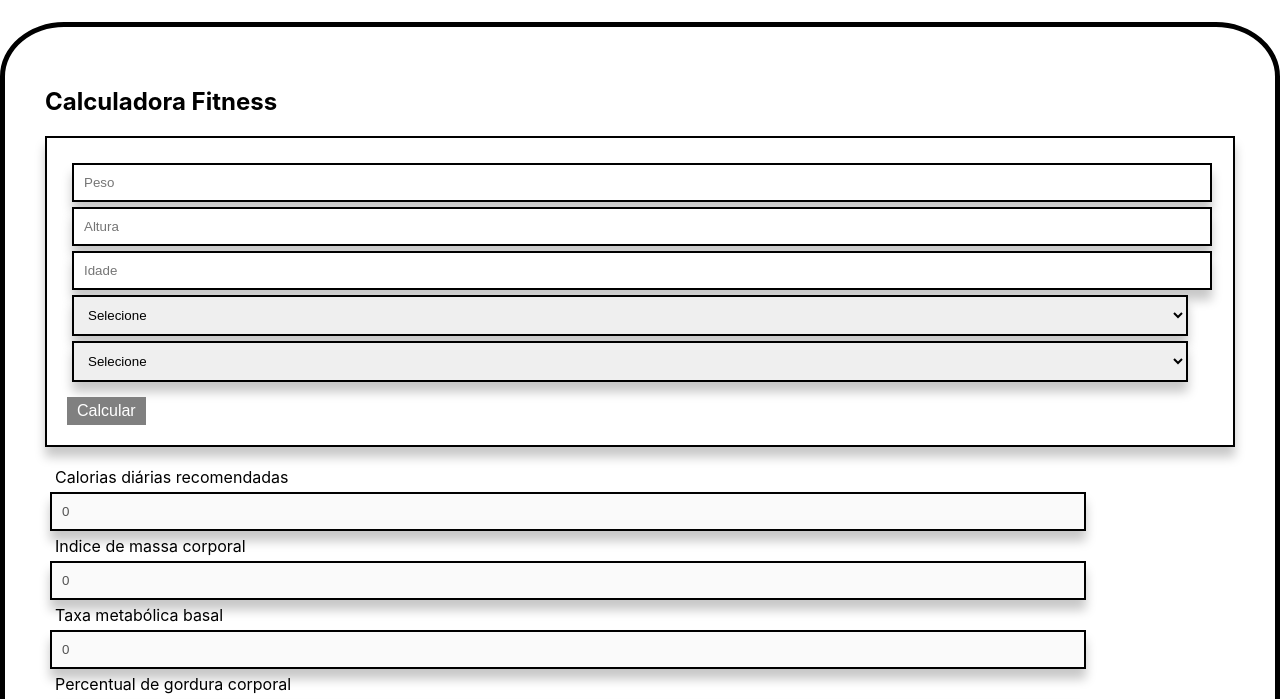
Test: the form's behavior › submit button must be enabled if fields are filled, and form must return correct values upon submission
The image size is (1280, 699).
// add random values to input
Type "175" into the field with placeholder "Altura". click: coordinates (642, 226)
box: [72,207,1212,246]
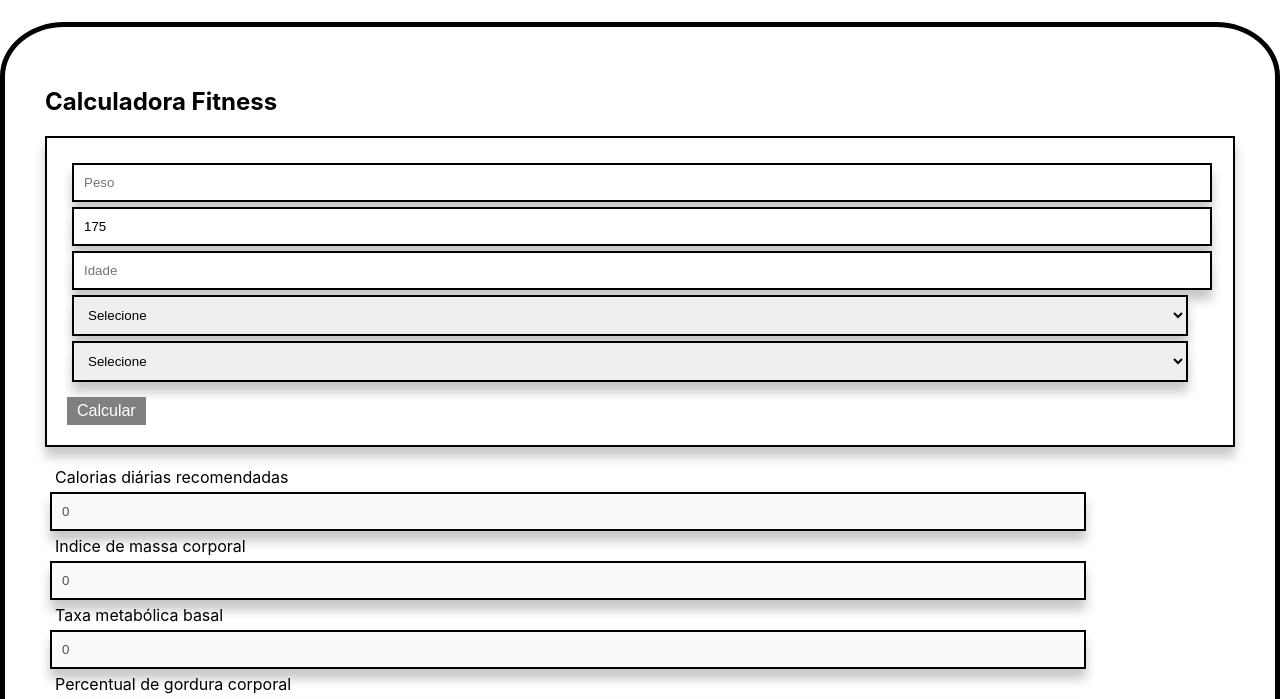
Type "115" into the field with placeholder "Peso". click: coordinates (642, 182)
box: [72,163,1212,202]
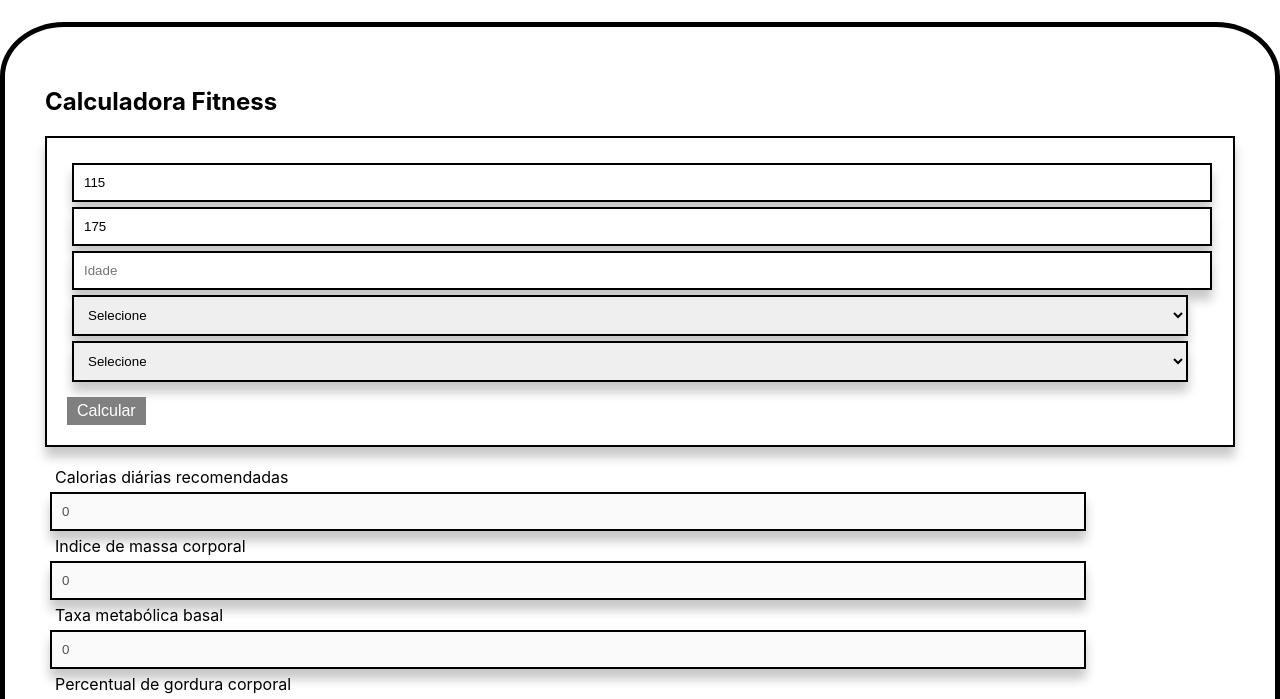
Type "25" into the field with placeholder "Idade". click: coordinates (642, 270)
box: [72,251,1212,290]
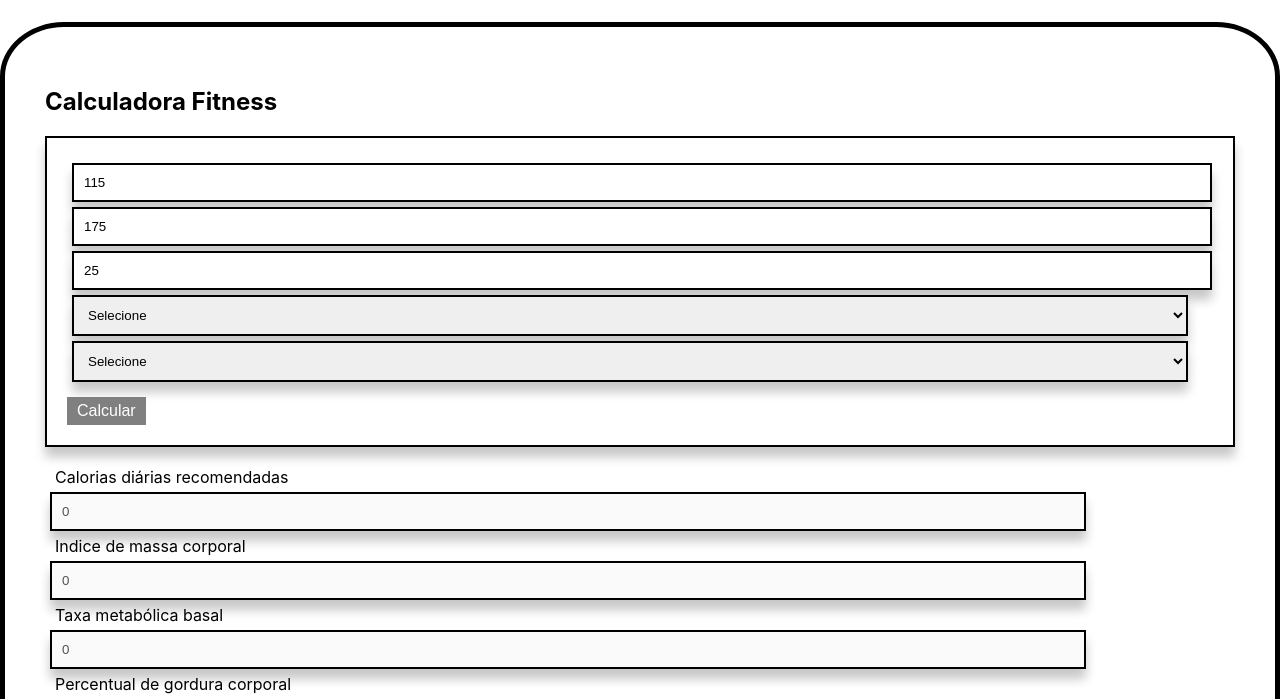
Select "Feminino" in the 1st dropdown with placeholder "genderInput". click: coordinates (630, 315)
box: [72,295,1188,336]
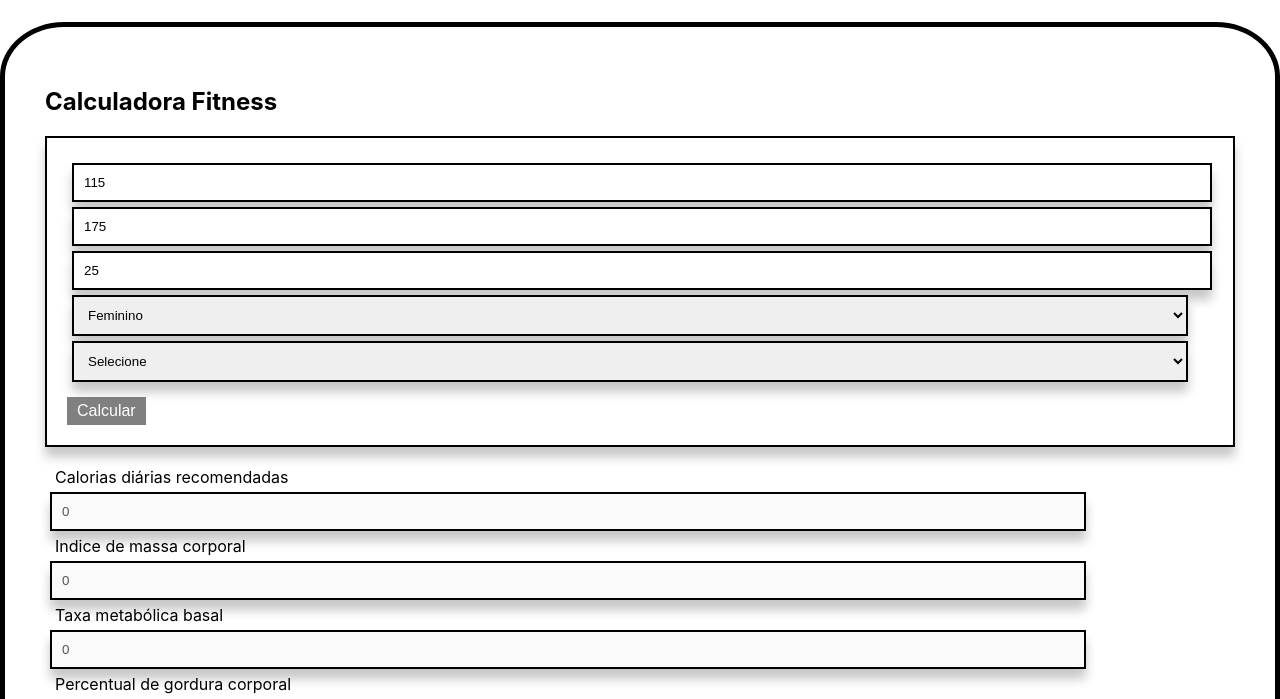
Select "Baixo" in the 2nd dropdown with placeholder "activityLevelInput". click: coordinates (630, 361)
box: [72,341,1188,382]
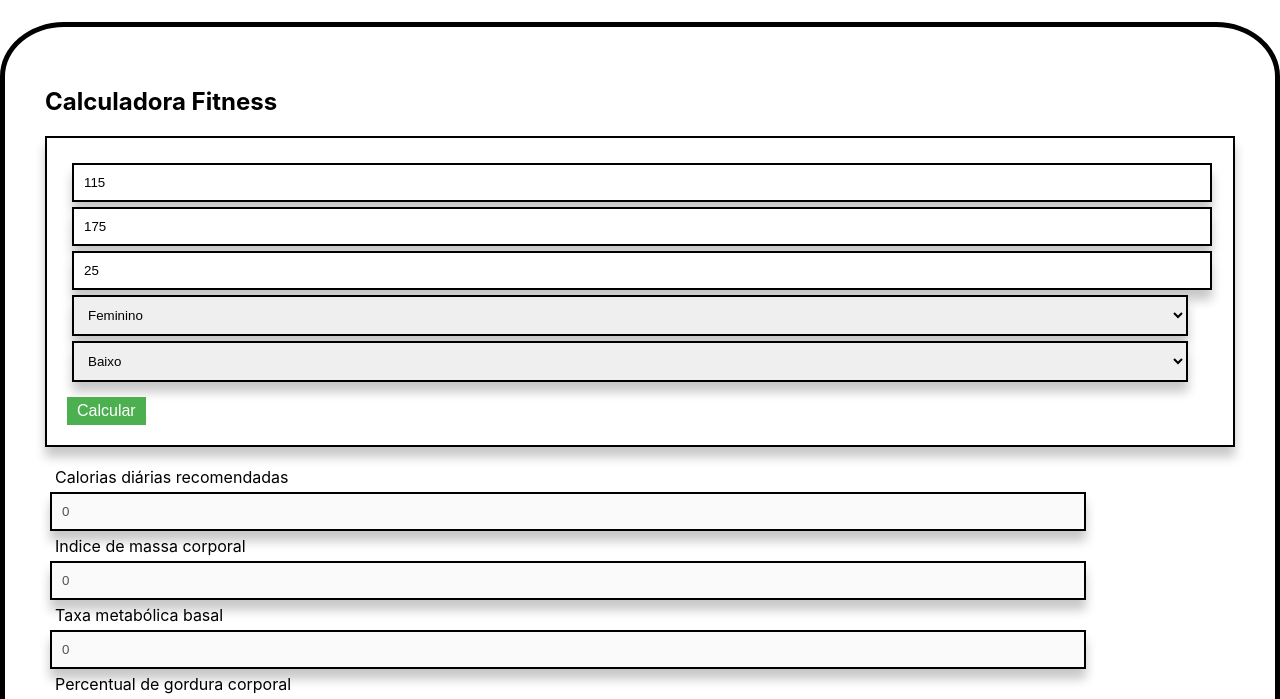
Expected: the button is enabled
Click the button. click: coordinates (106, 411)
box: [67,397,146,425]
(page scrolled)
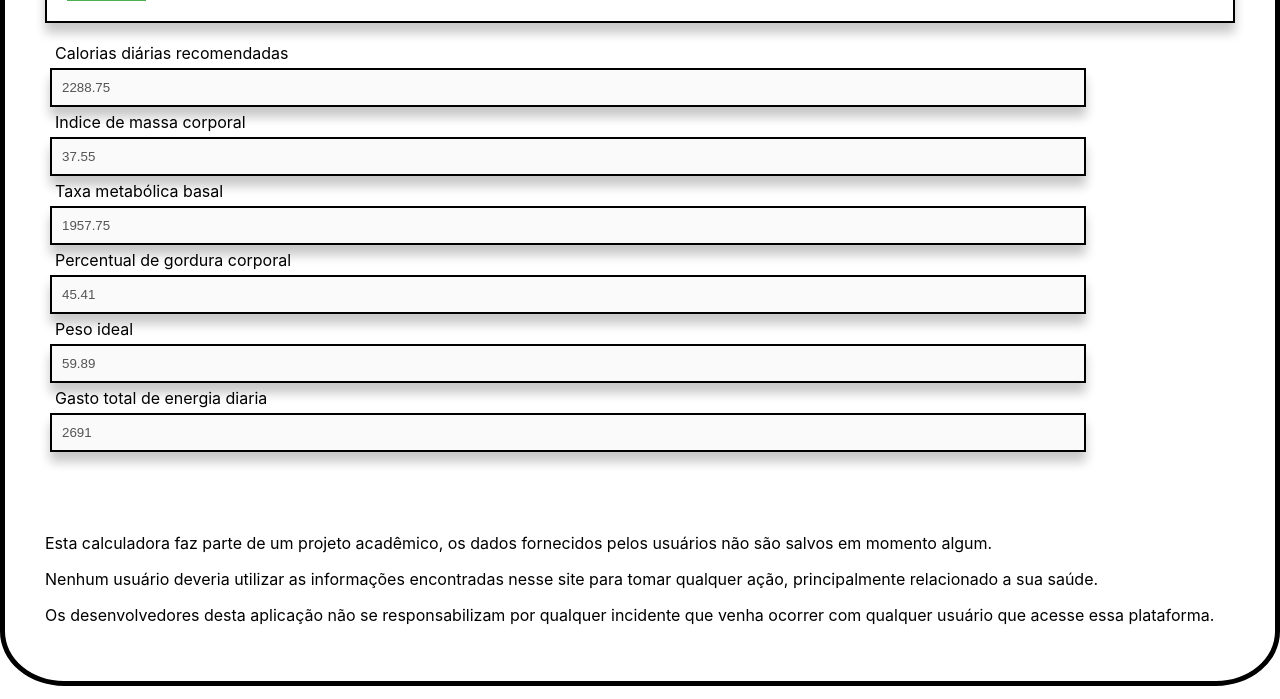
Expected: the field labelled "Calorias diárias recomendadas" holds "2288.75", [50,68,1086,107]
Expected: the field labelled "Indice de massa corporal" holds "37.55", [50,137,1086,176]
Expected: the field labelled "Taxa metabólica basal" holds "1957.75", [50,206,1086,245]
